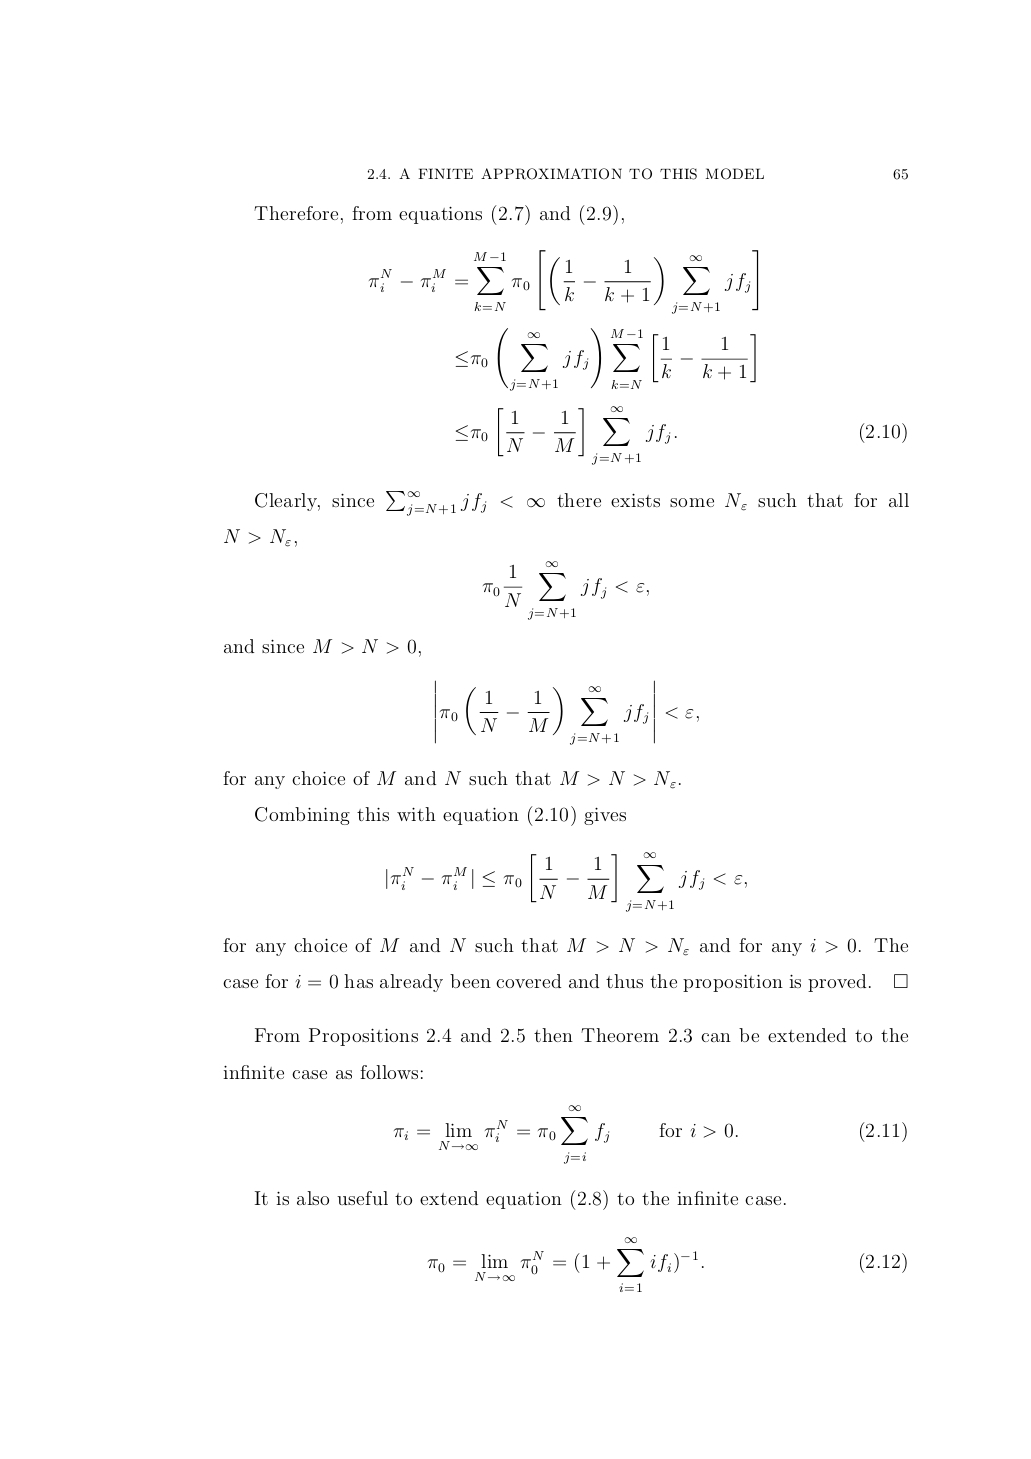formula: (393, 1105, 906, 1163), (455, 405, 906, 465), (427, 1237, 906, 1291), (368, 249, 758, 315), (386, 851, 746, 912), (455, 327, 755, 392), (434, 679, 698, 745), (482, 560, 648, 620), (224, 528, 296, 547)
